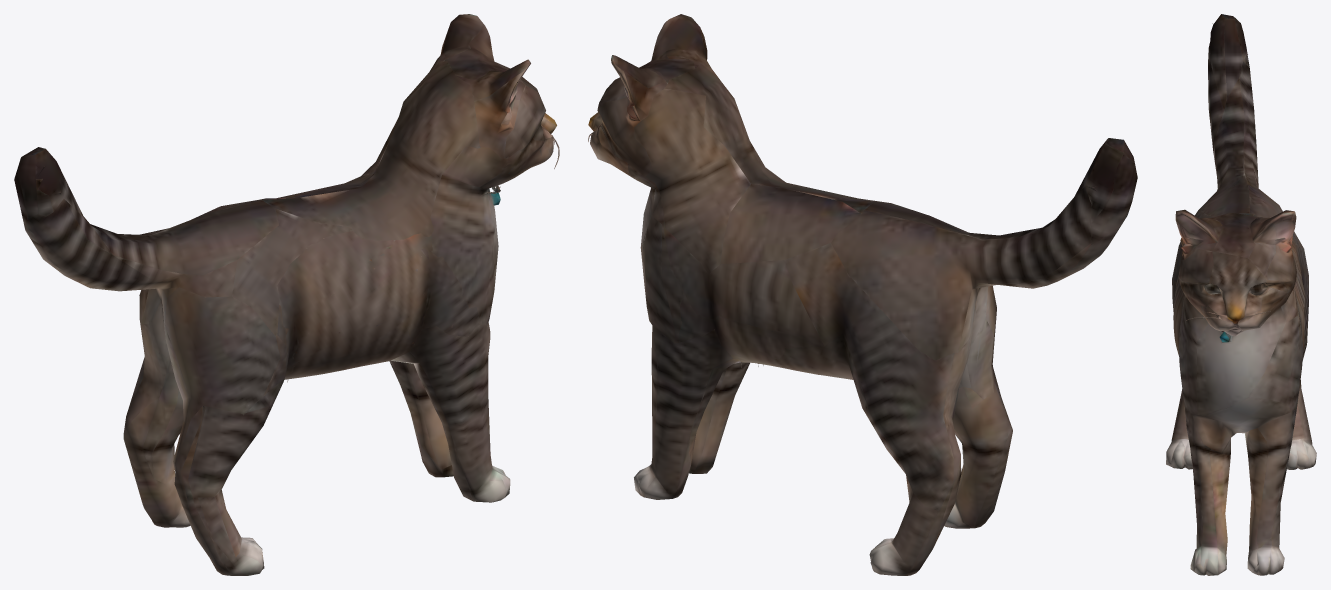
File: THINKTHINK-lo.glb
3 renders of one model, left to right at view 1: azimuth 30°, elevation 25°; view 2: azimuth 150°, elevation 25°; view 3: azimuth 270°, elevation 25°, orthographic. The views are drawn at different scales.
Parts seen in each view (by area): view 1: material; view 2: material; view 3: material.
Boxes of the visible parts, x1,y1,x2,y2 form: material: (14, 14, 559, 575); material: (588, 14, 1137, 575); material: (1166, 14, 1316, 575).
Size of the model in its own units: 1.27 by 0.9954 by 0.364.
Materials: 1 (1 with a texture image).
